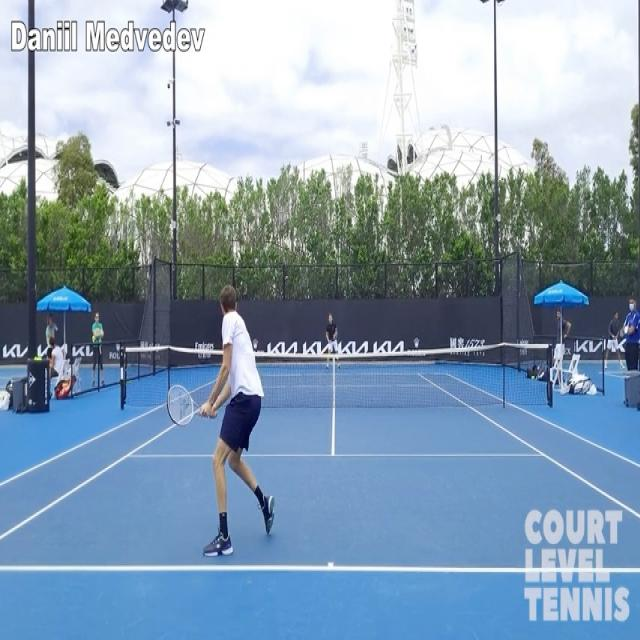backhand-ready: (160, 284, 288, 560)
